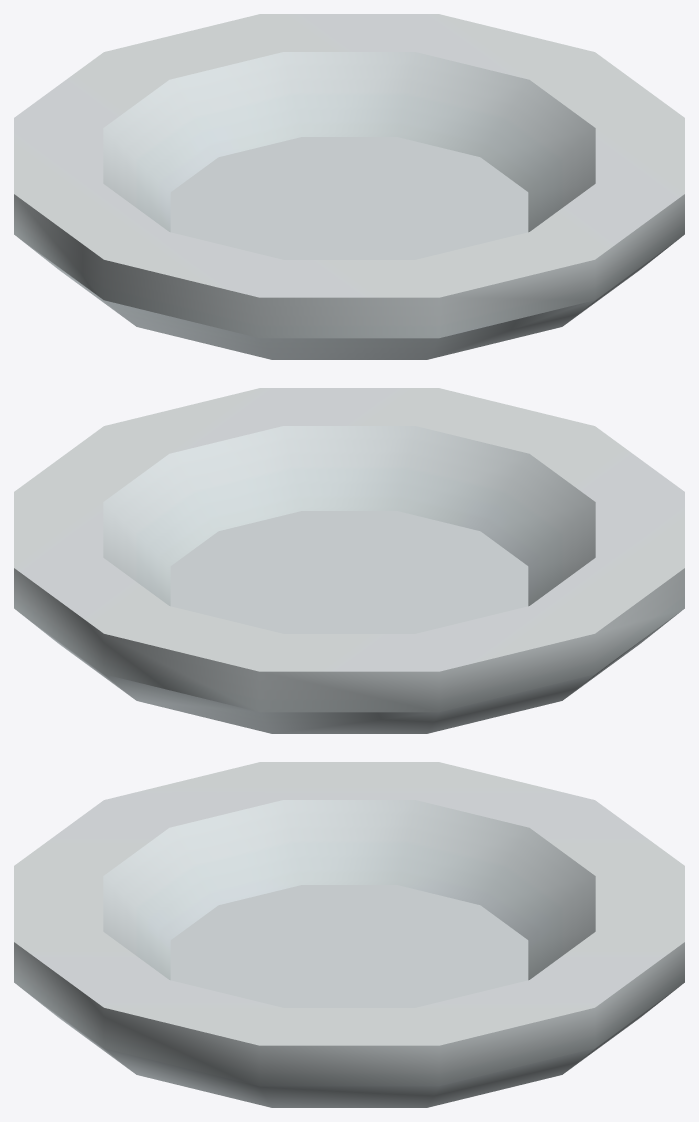
File: plate-small.glb
The picture shows the model from 3 angles, top to bottom: view 1: azimuth 30°, elevation 25°; view 2: azimuth 150°, elevation 25°; view 3: azimuth 270°, elevation 25°; orthographic projection.
Visible parts, largest first — view 1: plate_small; view 2: plate_small; view 3: plate_small.
Part boxes in pixels (left/top/right/bottom): plate_small: left=14, top=14, right=684, bottom=359; plate_small: left=14, top=388, right=684, bottom=733; plate_small: left=14, top=762, right=684, bottom=1107.
Size of the model in its own units: 0.75 by 0.1 by 0.75.
Materials: 1 (1 with a texture image).
